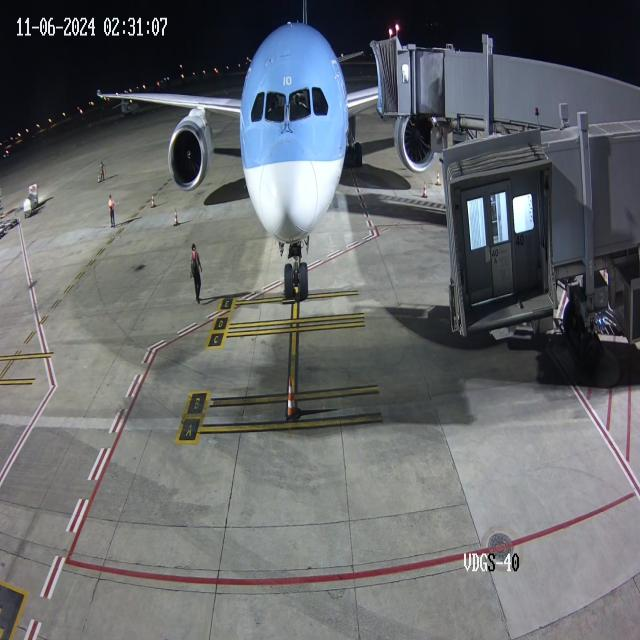bridge: (385, 33, 447, 122)
plane: (90, 2, 365, 301)
window: (247, 76, 332, 139)
